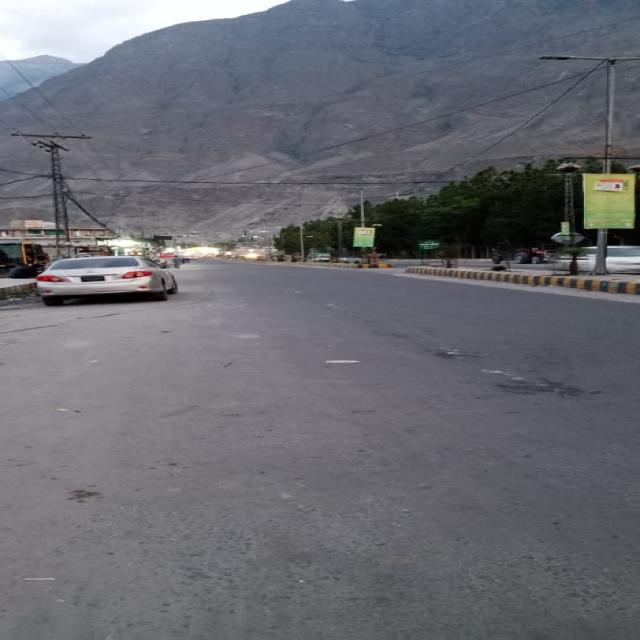straight: (208, 256, 312, 394)
